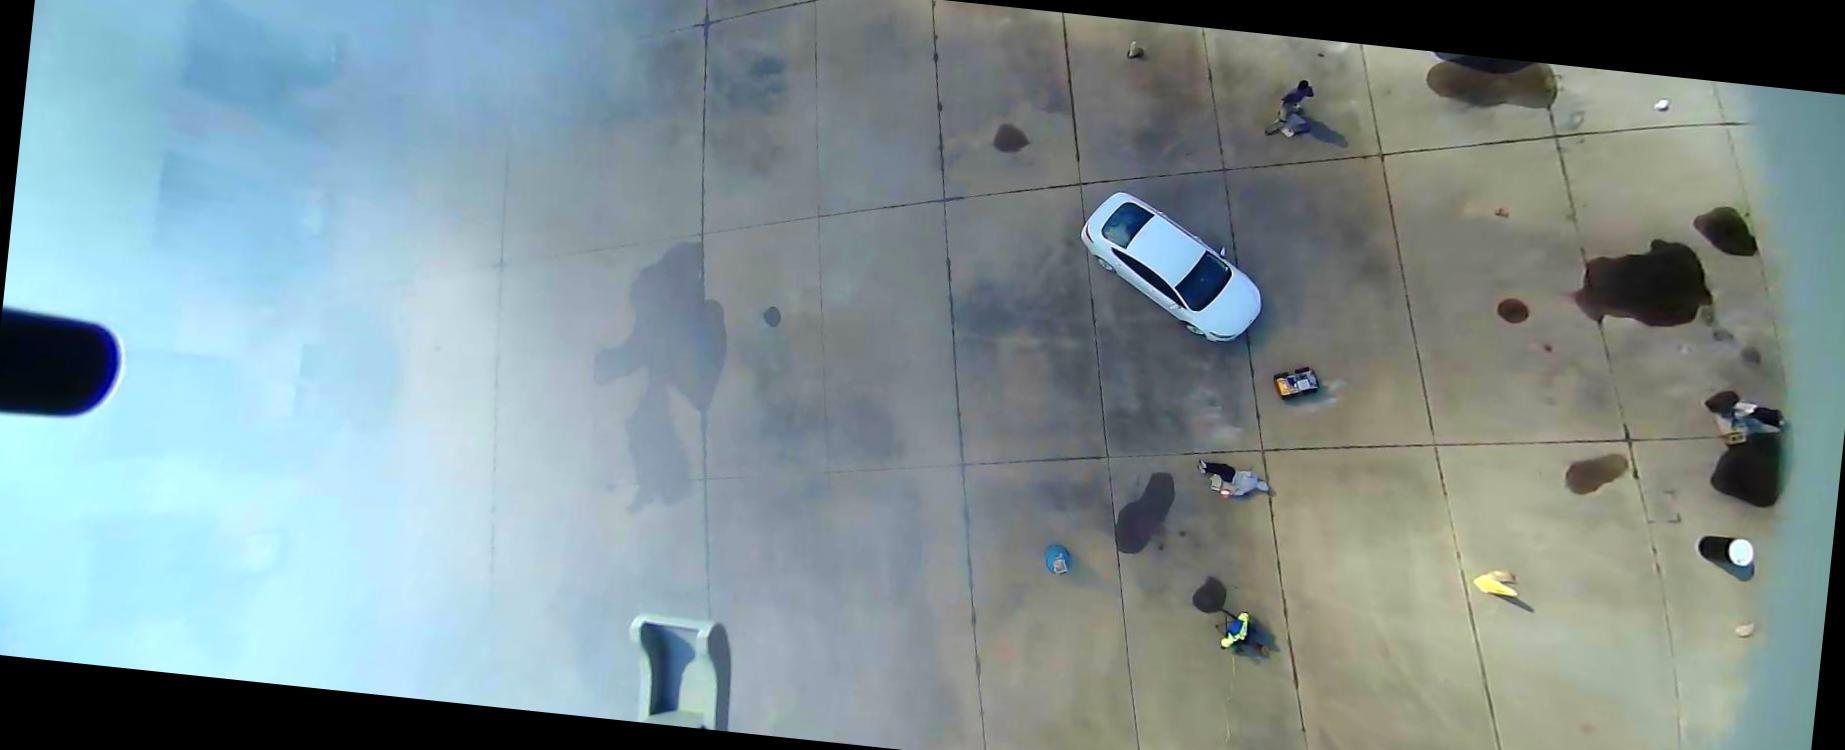vehicle: (1068, 186, 1273, 347), (1432, 53, 1464, 64)
